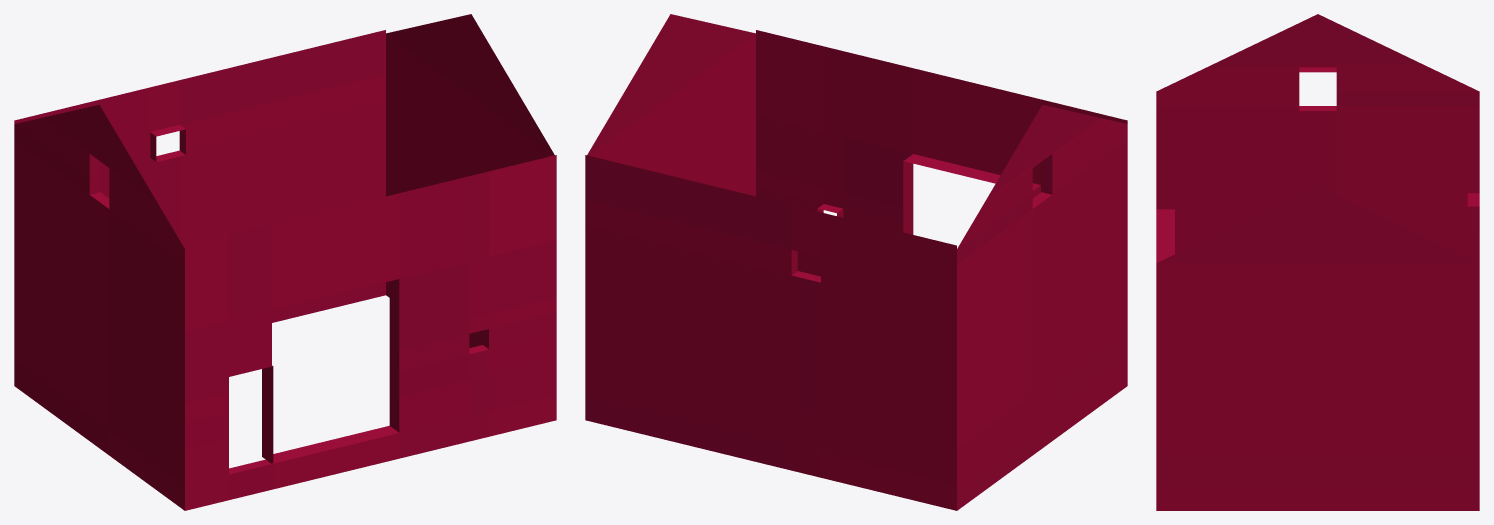
The model's file is SM_Bld_218_Masonry.glb.
The picture shows the model from 3 angles, left to right: view 1: azimuth 30°, elevation 25°; view 2: azimuth 150°, elevation 25°; view 3: azimuth 270°, elevation 25°; orthographic projection. The views are drawn at different scales.
Visible parts, largest first — view 1: SM_Bld_218_Masonry; view 2: SM_Bld_218_Masonry; view 3: SM_Bld_218_Masonry.
Boxes of the visible parts, box(x1,y1,x2,y2) form: SM_Bld_218_Masonry: box(14, 14, 556, 510); SM_Bld_218_Masonry: box(585, 14, 1127, 510); SM_Bld_218_Masonry: box(1156, 14, 1479, 510).
Bounding box in the file's own units: 7.58 × 6.7 × 6.03.
